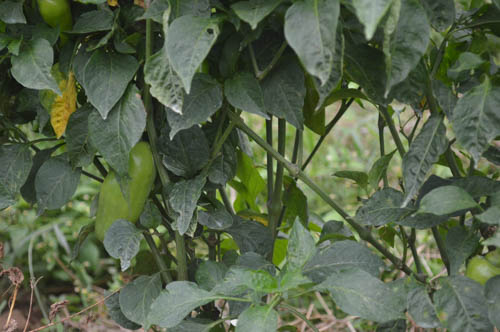ChiliPepper: (98, 144, 155, 244)
